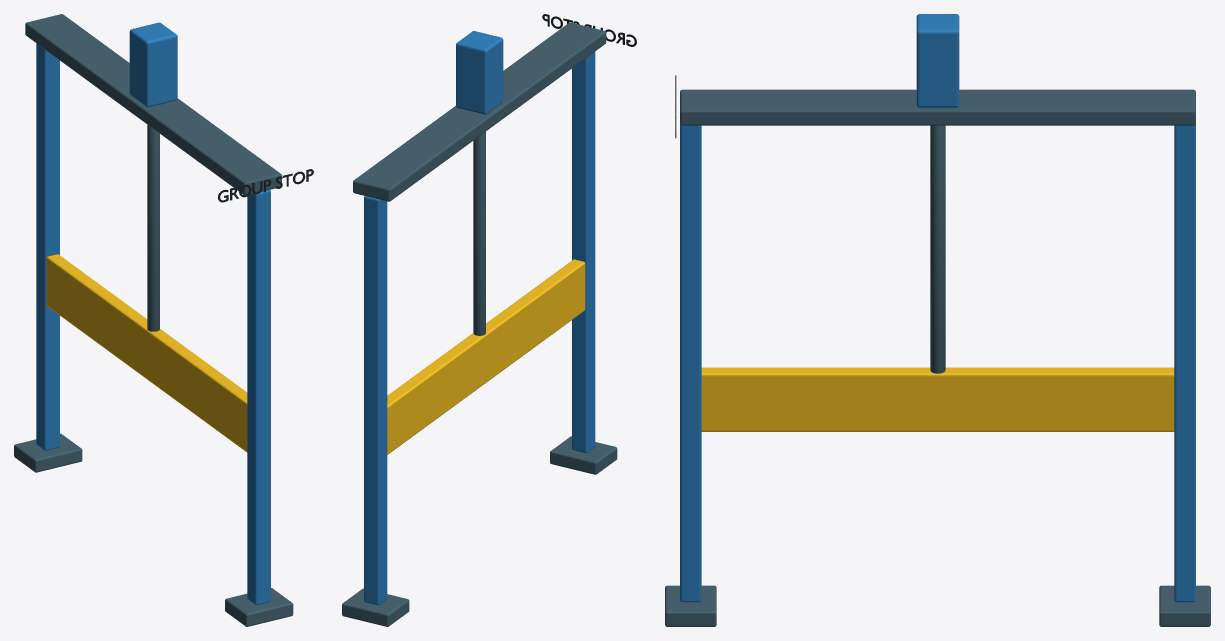
The model's file is grouping_stop.glb.
The picture shows the model from 3 angles, left to right: view 1: azimuth 30°, elevation 25°; view 2: azimuth 150°, elevation 25°; view 3: azimuth 270°, elevation 25°; orthographic projection. The views are drawn at different scales.
Visible parts, largest first — view 1: KIN_group_gate, STOP_header, STOP_guide_-1, STOP_guide_1, STOP_actuator, STOP_telescoping_rod, STOP_foot_1, STOP_foot_-1, STOP_label; view 2: KIN_group_gate, STOP_header, STOP_guide_1, STOP_guide_-1, STOP_actuator, STOP_telescoping_rod, STOP_foot_1, STOP_foot_-1, STOP_label; view 3: KIN_group_gate, STOP_header, STOP_guide_1, STOP_guide_-1, STOP_actuator, STOP_telescoping_rod, STOP_foot_1, STOP_foot_-1.
Part boxes in pixels (x1,y1,x2,y2): KIN_group_gate: (46, 254, 247, 452); STOP_header: (25, 14, 281, 194); STOP_guide_-1: (247, 190, 270, 604); STOP_guide_1: (36, 43, 59, 450); STOP_actuator: (129, 22, 177, 107); STOP_telescoping_rod: (147, 124, 159, 331); STOP_foot_1: (14, 433, 82, 472); STOP_foot_-1: (225, 588, 293, 626); STOP_label: (218, 169, 313, 202); KIN_group_gate: (387, 259, 585, 454); STOP_header: (353, 22, 606, 201); STOP_guide_1: (364, 196, 387, 605); STOP_guide_-1: (572, 52, 595, 453); STOP_actuator: (456, 31, 503, 114); STOP_telescoping_rod: (473, 131, 485, 335); STOP_foot_1: (342, 588, 409, 626); STOP_foot_-1: (550, 436, 617, 474); STOP_label: (542, 14, 636, 46); KIN_group_gate: (701, 367, 1174, 431); STOP_header: (680, 89, 1195, 125); STOP_guide_1: (1174, 124, 1195, 602); STOP_guide_-1: (680, 124, 701, 602); STOP_actuator: (916, 14, 959, 107); STOP_telescoping_rod: (930, 125, 945, 373); STOP_foot_1: (1159, 585, 1210, 626); STOP_foot_-1: (665, 585, 716, 626).
Bounding box in the file's own units: 0.6018 × 3.04 × 2.54.
